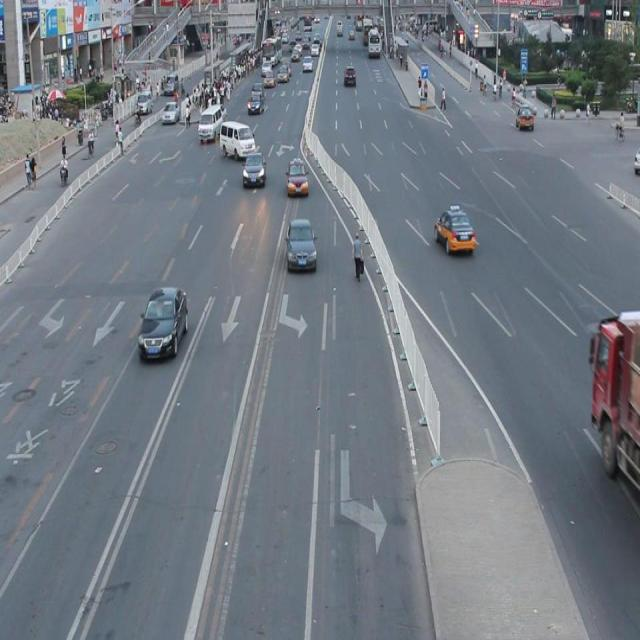bus: (586, 311, 640, 489)
car: (138, 285, 189, 359), (434, 207, 475, 255), (285, 215, 316, 274), (286, 157, 310, 200), (242, 148, 266, 190)
